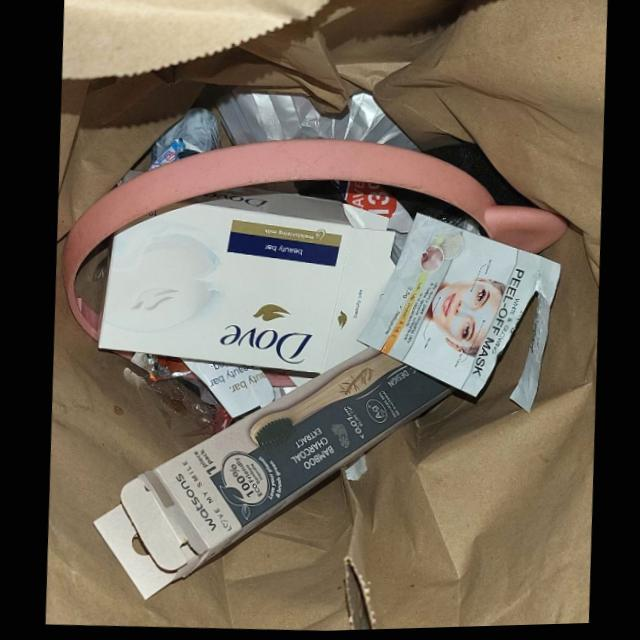metal: (214, 89, 420, 154)
paper: (91, 349, 451, 598), (97, 194, 396, 378), (175, 358, 275, 419)
wrapper: (356, 214, 560, 415)
